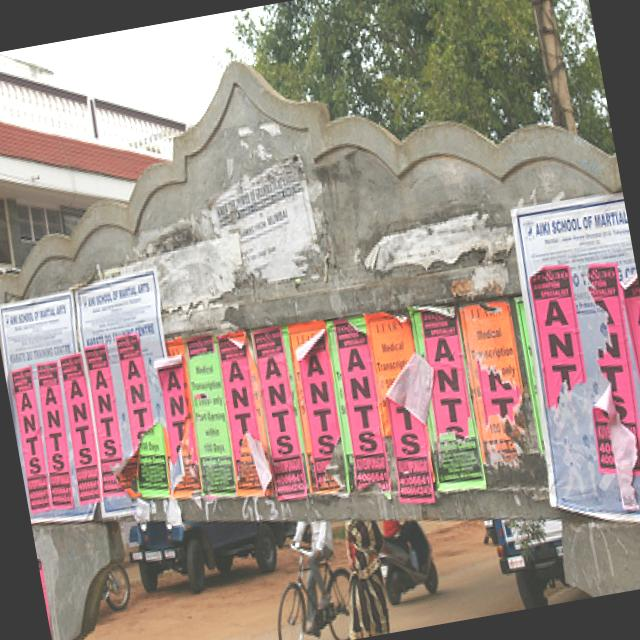Vehicle: (121, 493, 296, 603), (492, 508, 576, 612), (372, 516, 442, 606)
